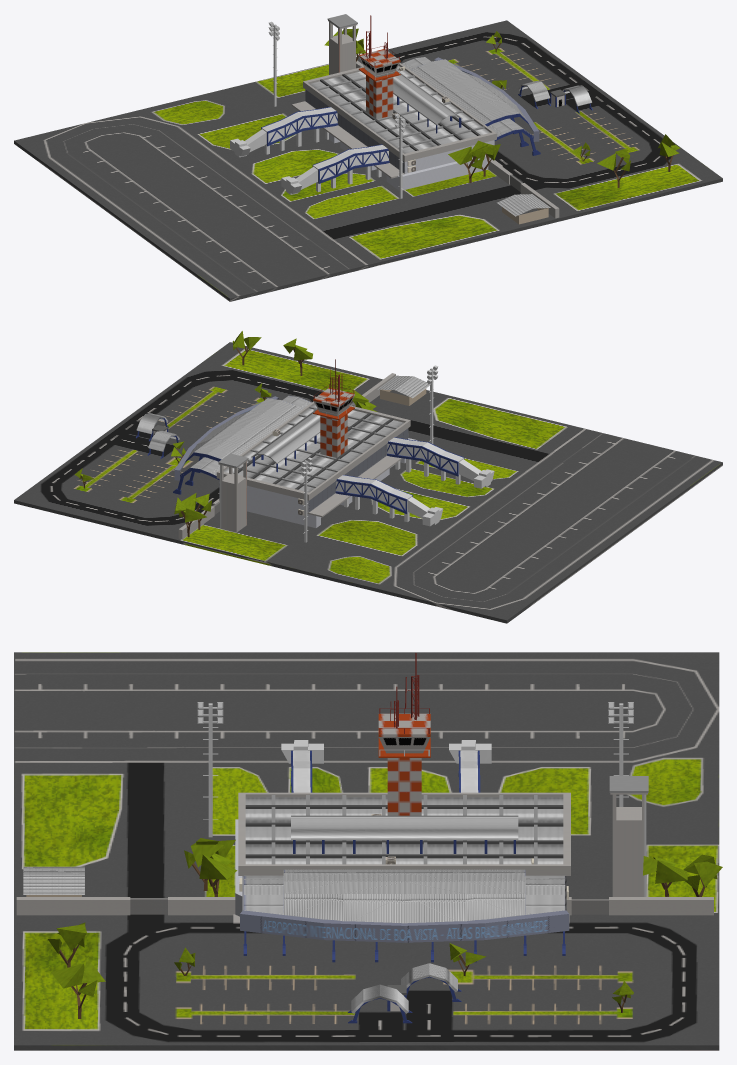
The model's file is aeroportoLOD0.fbx.
The picture shows the model from 3 angles, top to bottom: view 1: azimuth 30°, elevation 25°; view 2: azimuth 150°, elevation 25°; view 3: azimuth 270°, elevation 25°; orthographic projection. The views are drawn at different scales.
Visible parts, largest first — view 1: aeroporto LOD 0; view 2: aeroporto LOD 0; view 3: aeroporto LOD 0.
Part boxes in pixels (x1,y1,x2,y2): aeroporto LOD 0: (14, 14, 722, 301); aeroporto LOD 0: (14, 331, 722, 623); aeroporto LOD 0: (14, 652, 722, 1050).
Size of the model in its own units: 2062 by 543 by 1573.
